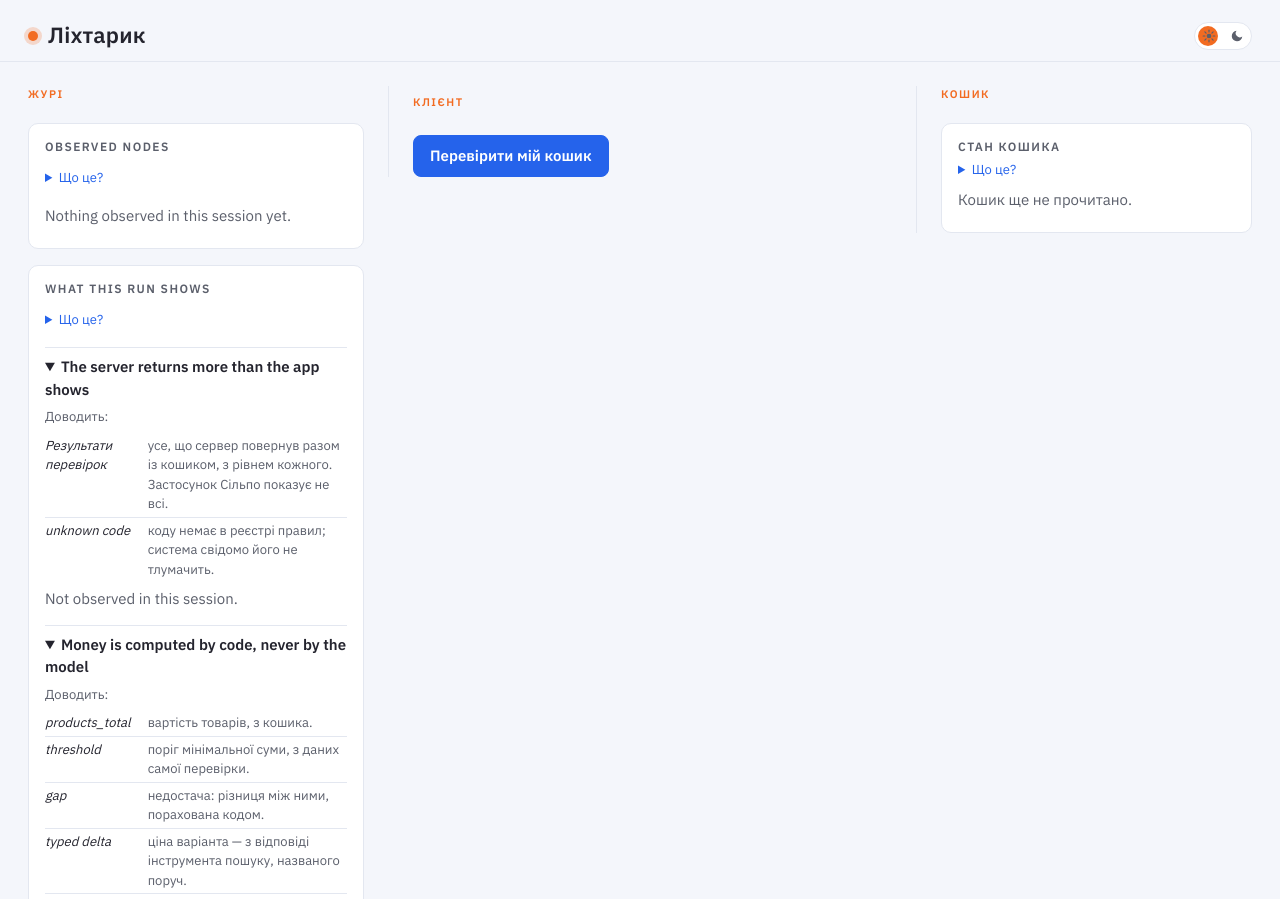
Test: compensation offer › renders the undo copy and suppresses the stale pre-write diagnosis
Click the button "Перевірити мій кошик".
click(511, 156)  # box [413,134,609,177]
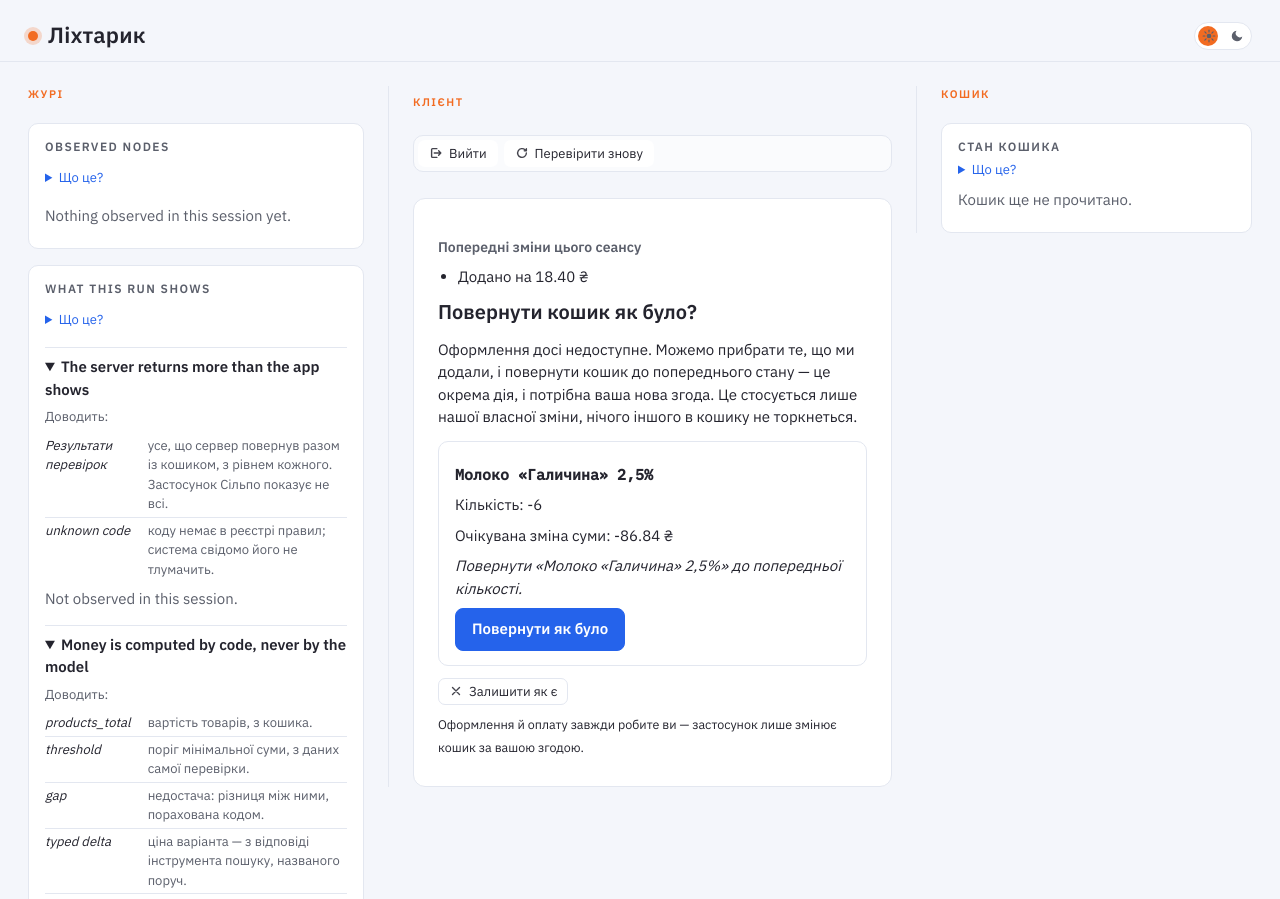
Expected: the button "Повернути як було" is enabled, [455,608,625,651]
Result: the text with test id "compensation-lede" is shown at [438,339,867,429]
Result: the heading "Повернути кошик як було?" is shown at [438,298,697,325]
